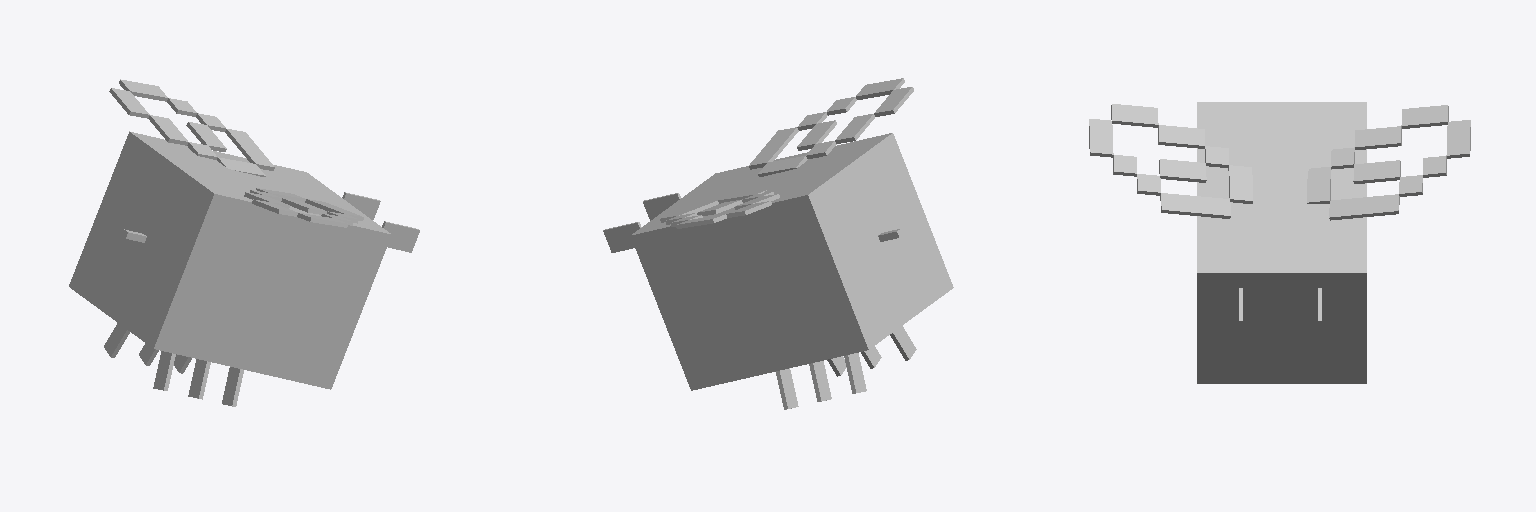
The model's file is Bee_ (126).obj.
3 views of the same model, side by side, from view 1: azimuth 30°, elevation 25°; view 2: azimuth 150°, elevation 25°; view 3: azimuth 270°, elevation 25° (orthographic).
Visible parts, largest first — view 1: b_Bee_MAT_0, r_Bee_MAT_0, l_Bee_MAT_0; view 2: b_Bee_MAT_0, l_Bee_MAT_0, r_Bee_MAT_0; view 3: b_Bee_MAT_0, l_Bee_MAT_0, r_Bee_MAT_0.
Boxes of the visible parts, x1,y1,x2,y2 form: b_Bee_MAT_0: [69, 131, 419, 406]; r_Bee_MAT_0: [109, 79, 274, 176]; l_Bee_MAT_0: [244, 188, 363, 227]; b_Bee_MAT_0: [603, 133, 953, 409]; l_Bee_MAT_0: [749, 78, 913, 176]; r_Bee_MAT_0: [660, 190, 779, 228]; b_Bee_MAT_0: [1197, 102, 1366, 383]; l_Bee_MAT_0: [1089, 104, 1252, 218]; r_Bee_MAT_0: [1307, 105, 1470, 220].
Bounding box in the file's own units: 0.3073 × 0.2501 × 0.3535.